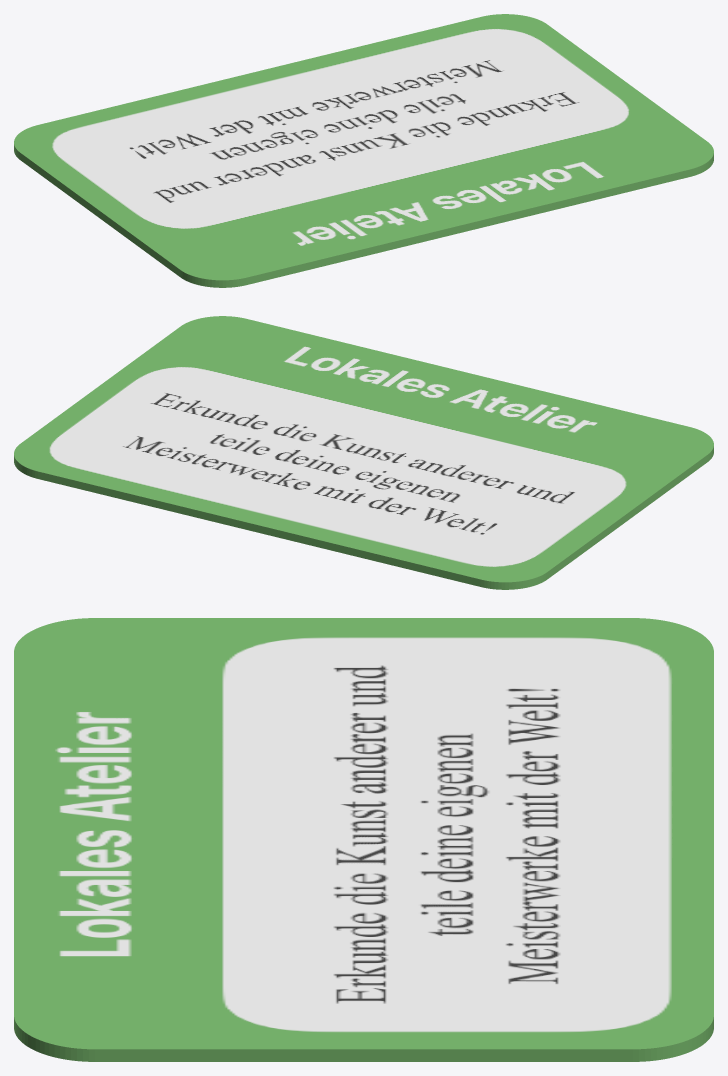
Rendered from Kunst.fbx.
3 views of the same model, one above another, from view 1: azimuth 30°, elevation 25°; view 2: azimuth 150°, elevation 25°; view 3: azimuth 270°, elevation 25° (orthographic). The views are drawn at different scales.
Visible parts, largest first — view 1: Cube; view 2: Cube; view 3: Cube.
Part boxes in pixels (x1,y1,x2,y2): Cube: [14, 14, 713, 287]; Cube: [14, 316, 713, 589]; Cube: [14, 618, 713, 1061].
Bounding box in the file's own units: 320 × 4.36 × 219.
1 material, 1 textured.
